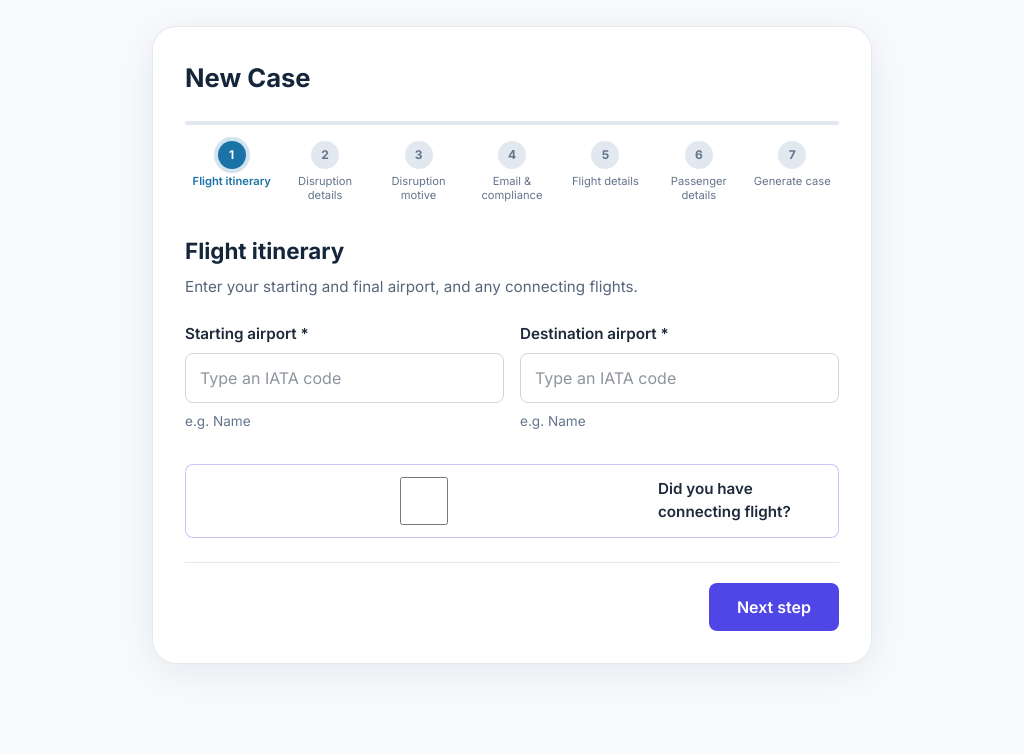
Test case: Flight itinerary behavior › adds connecting flights up to the allowed limit
Click the checkbox labelled "Did you have connecting flight?" at (424, 501), box x1=200 y1=477 x2=648 y2=525
(page scrolled)
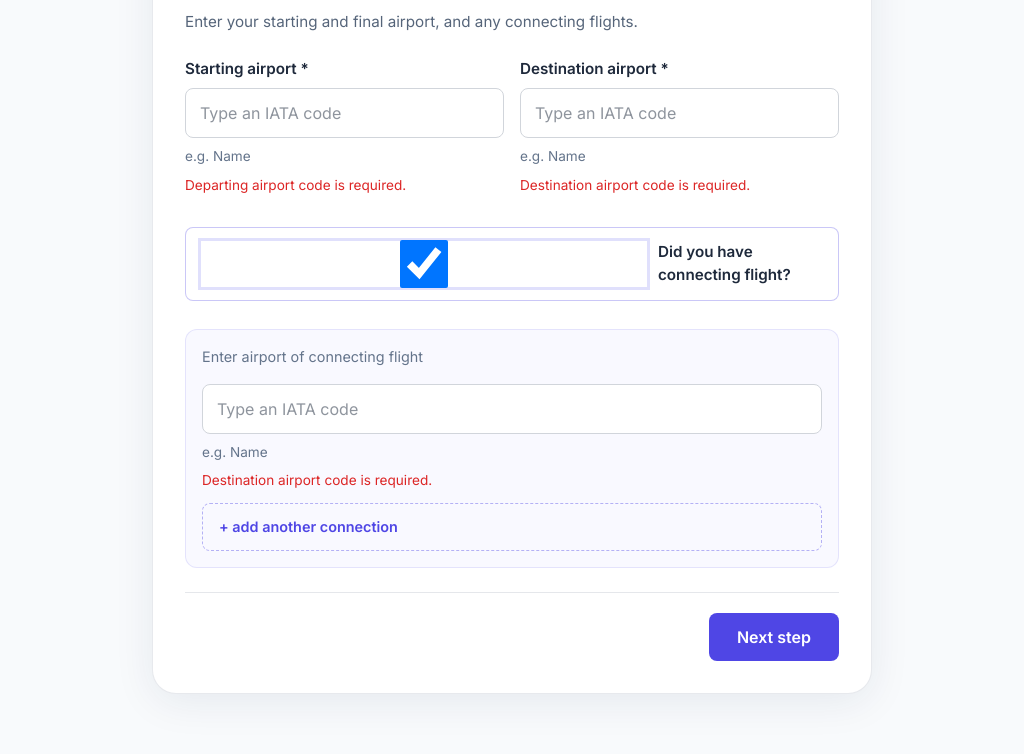
Click the button "+ add another connection" at (308, 526), box x1=202 y1=503 x2=822 y2=551
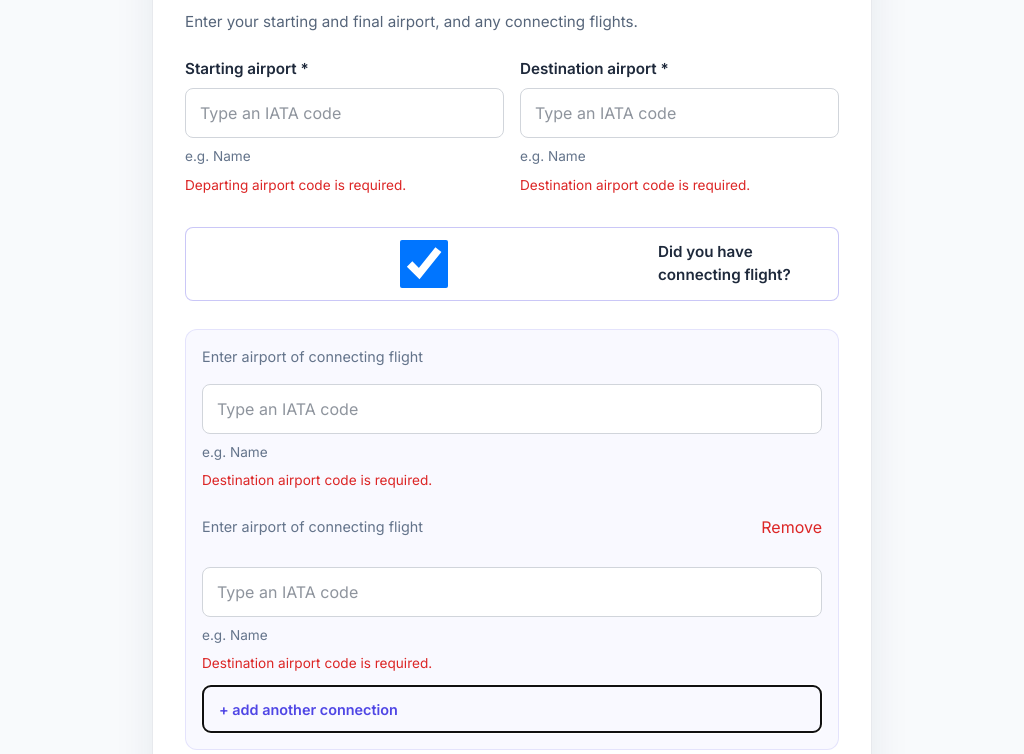
Click the button "+ add another connection" at (308, 709), box x1=202 y1=685 x2=822 y2=733
(page scrolled)
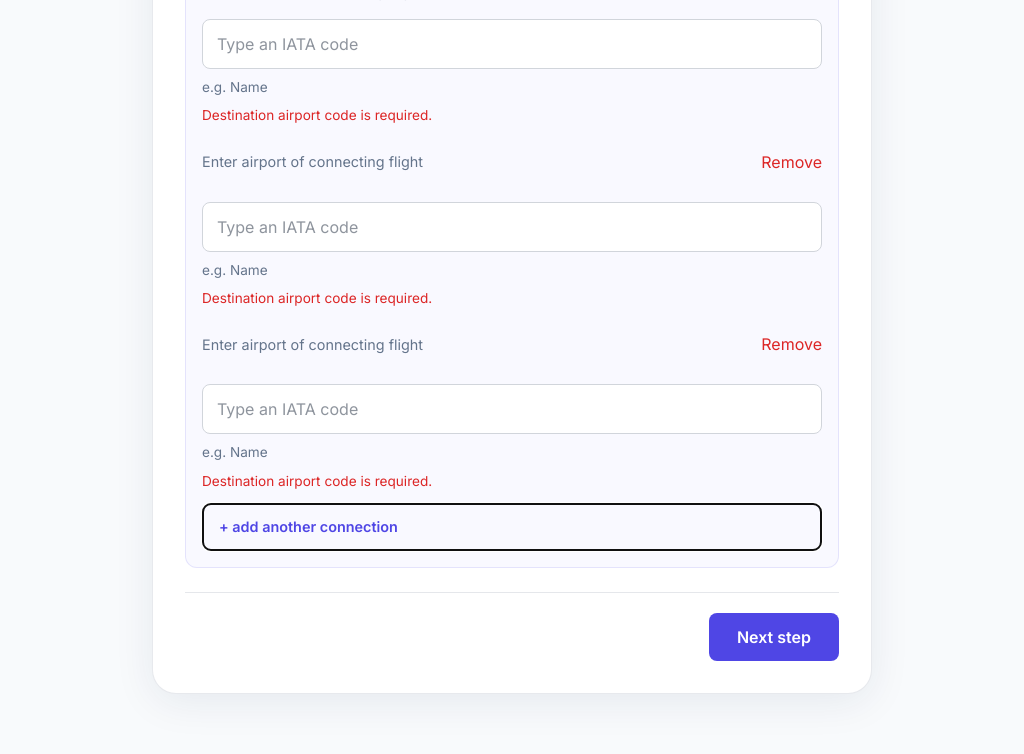
Click the button "+ add another connection" at (308, 527), box x1=202 y1=503 x2=822 y2=551
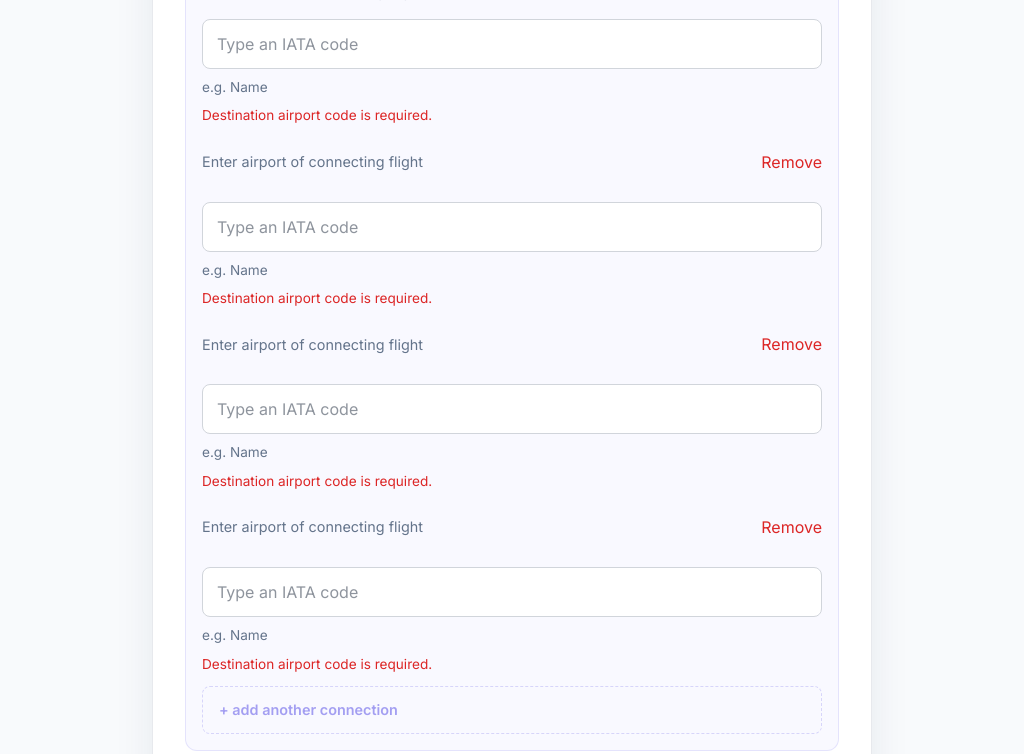
Check: the button "+ add another connection" is disabled, box x1=202 y1=686 x2=822 y2=734
